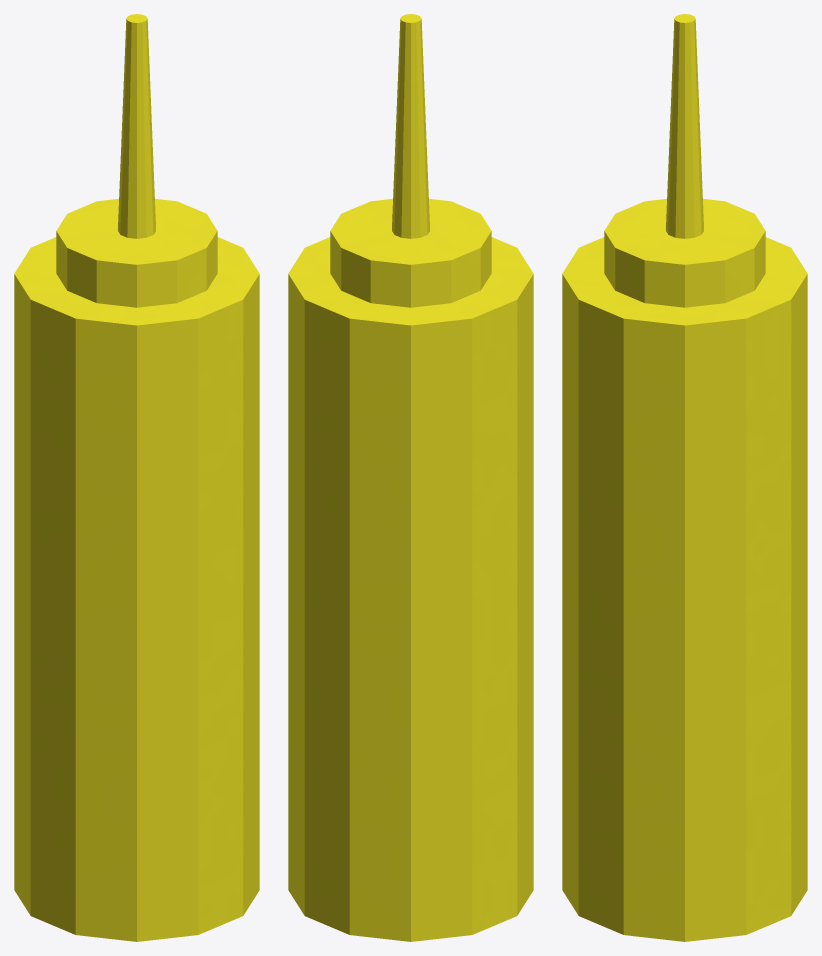
The model's file is Sauce_Bottle_02.fbx.
3 views of the same model, side by side, from view 1: azimuth 30°, elevation 25°; view 2: azimuth 150°, elevation 25°; view 3: azimuth 270°, elevation 25° (orthographic).
Parts seen in each view (by area): view 1: Sauce_Bottle_02; view 2: Sauce_Bottle_02; view 3: Sauce_Bottle_02.
Part boxes in pixels (left/top/right/bottom): Sauce_Bottle_02: left=14, top=14, right=259, bottom=941; Sauce_Bottle_02: left=288, top=14, right=533, bottom=941; Sauce_Bottle_02: left=562, top=14, right=807, bottom=941.
Bounding box in the file's own units: 0.0627 × 0.2456 × 0.0627.
